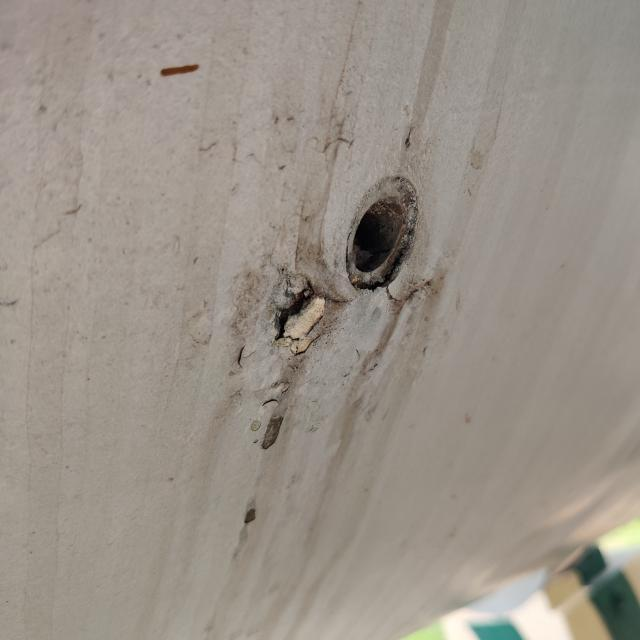crack: (246, 273, 376, 378)
